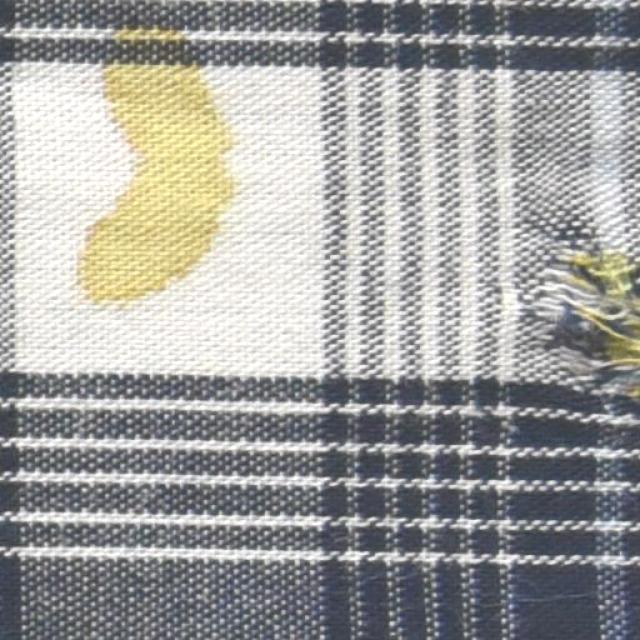Snag: (521, 237, 639, 390)
Stain: (74, 11, 241, 305), (581, 243, 639, 345)
